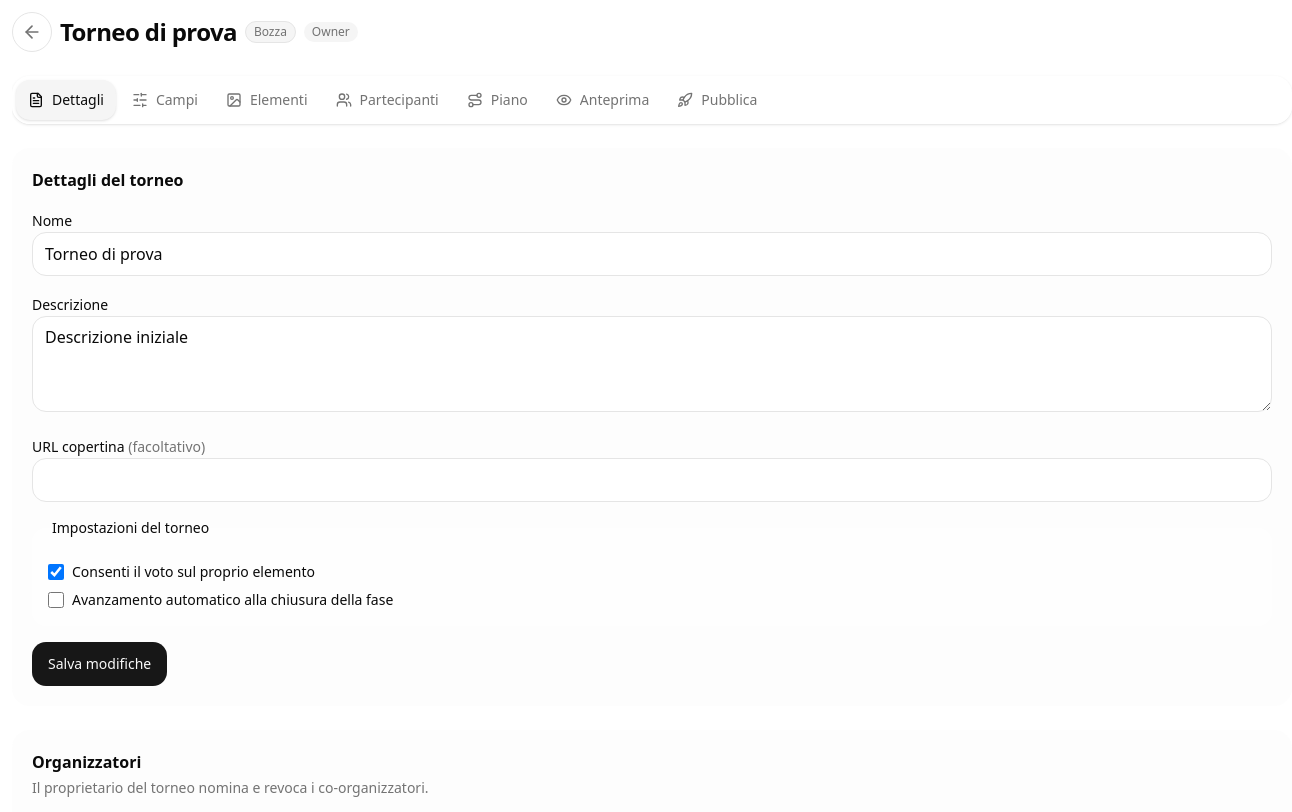
Test case: TournamentDetailView › cambia tab tra Dettagli, Elementi e Campi
The width and height of the screenshot is (1292, 812).
Click the button with id "tab-plan".
click(497, 100)  # box [455, 80, 540, 120]
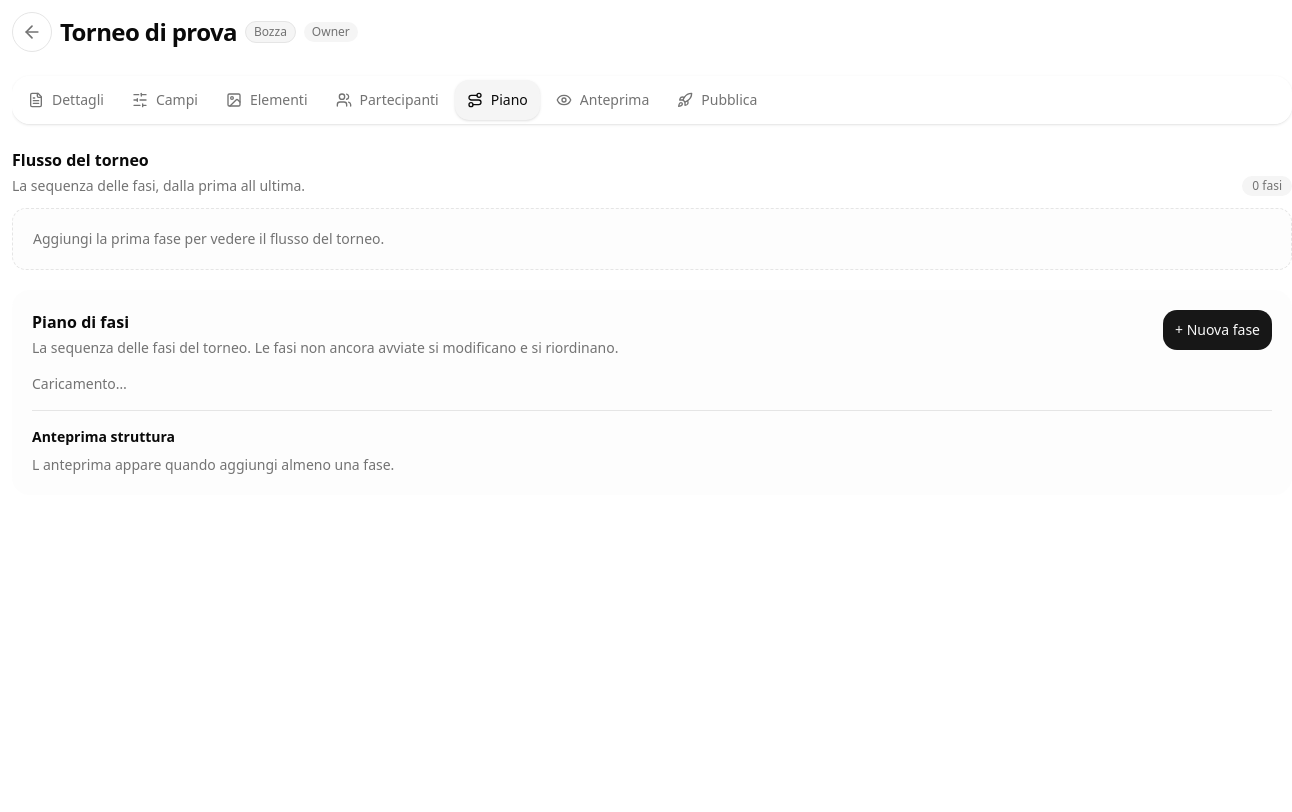
Expected: the text "Piano di fasi" is shown, [32, 311, 129, 333]
Click the button with id "tab-elements".
click(267, 100)  # box [214, 80, 320, 120]
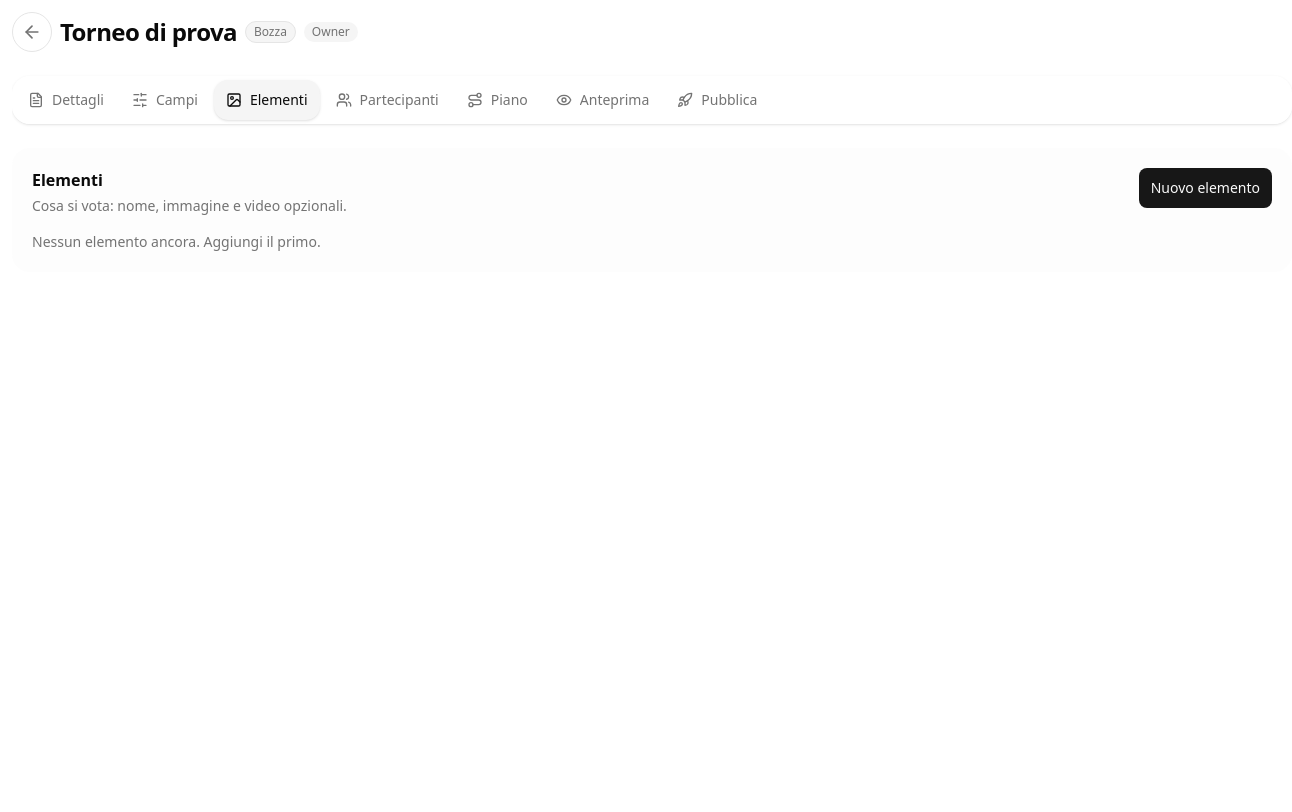
Expected: the button with id "open-create-element" is shown, [1139, 168, 1272, 208]
Click the button with id "tab-fields".
click(165, 100)  # box [120, 80, 210, 120]
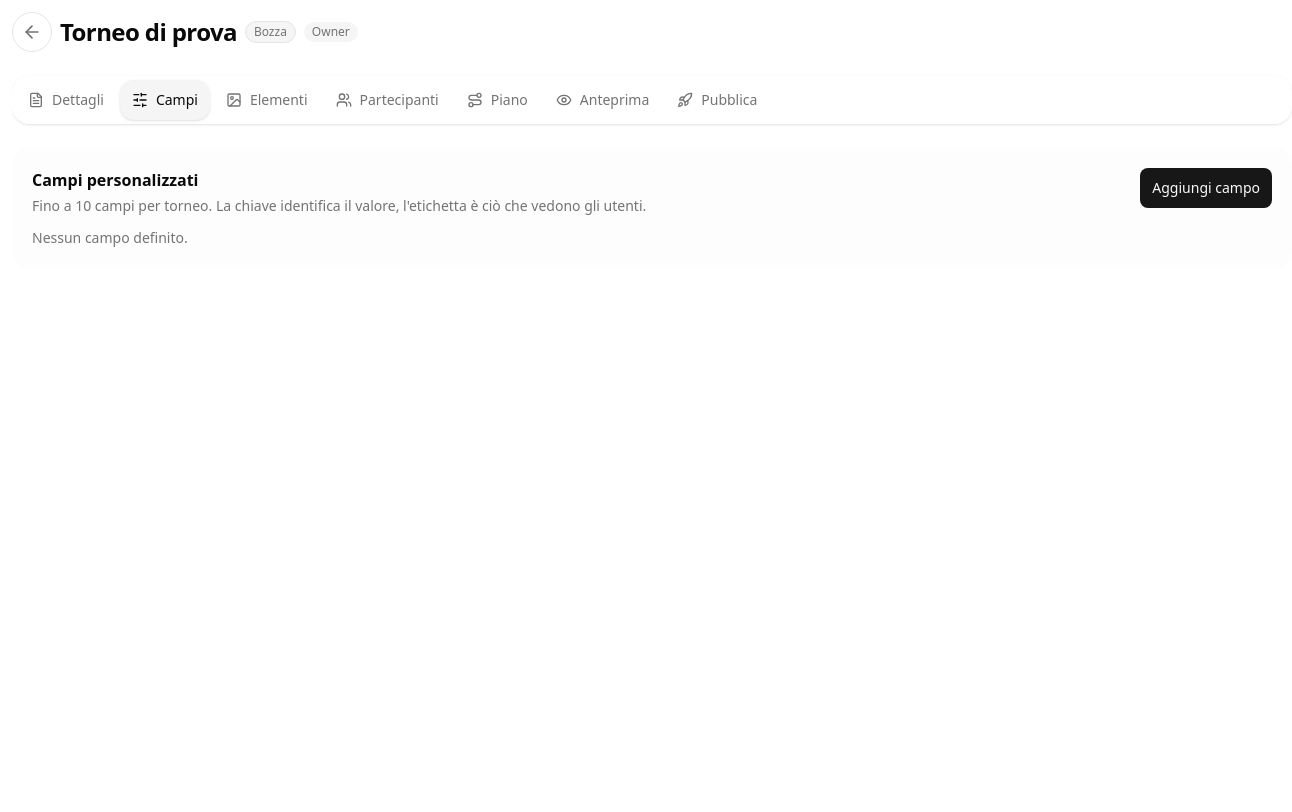
Expected: the button with id "open-create-field" is shown, [1140, 168, 1272, 208]
